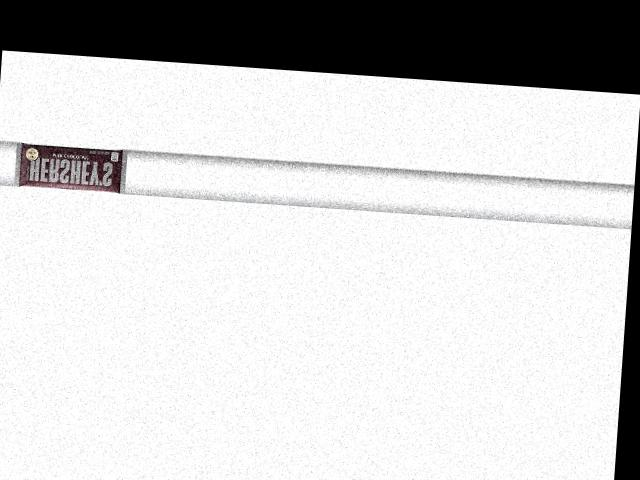chocolate: (16, 137, 128, 192)
